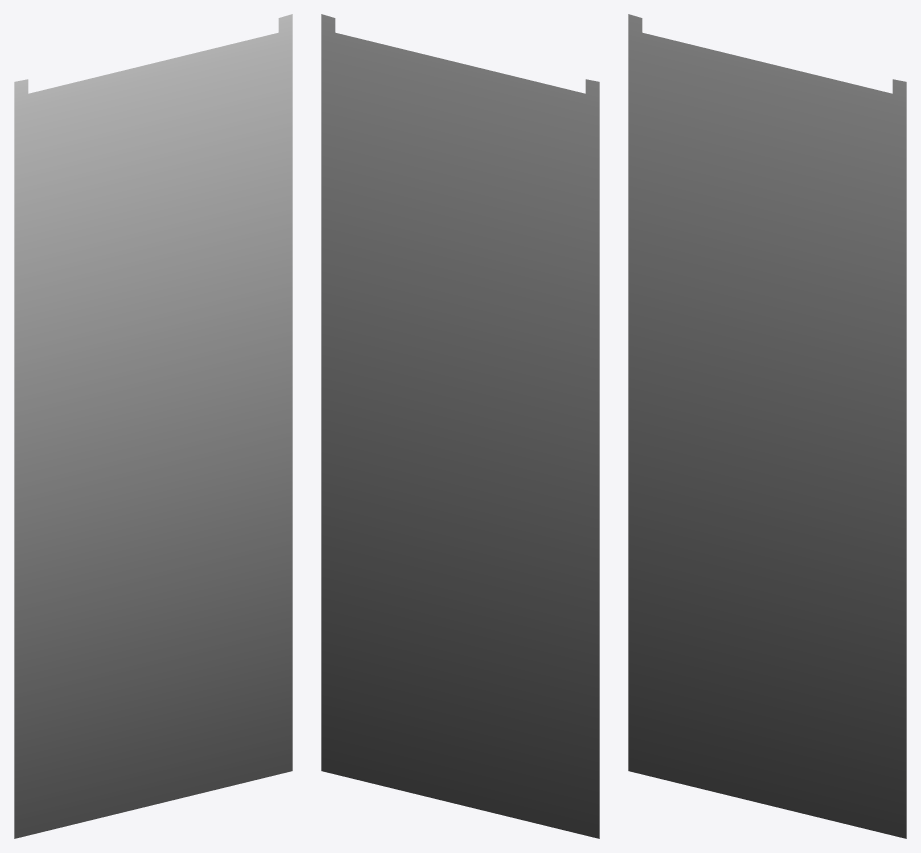
File: start.dae
3 views of the same model, side by side, from view 1: azimuth 30°, elevation 25°; view 2: azimuth 150°, elevation 25°; view 3: azimuth 330°, elevation 25° (orthographic).
Visible parts, largest first — view 1: Cube.001; view 2: Cube.001; view 3: Cube.001.
Boxes of the visible parts, bbox=[...] form: Cube.001: bbox=[14, 14, 292, 838]; Cube.001: bbox=[321, 14, 599, 838]; Cube.001: bbox=[628, 14, 906, 838].
Bounding box in the file's own units: 2 × 0 × 5.2.
1 material, 1 textured.
